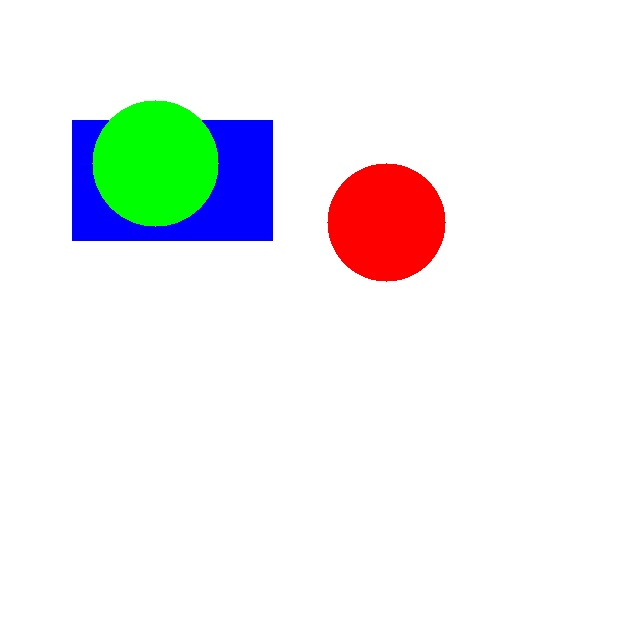cartao: (72, 120, 272, 240)
rosca_externa: (92, 100, 218, 226)
rosca_interna: (327, 163, 445, 281)
